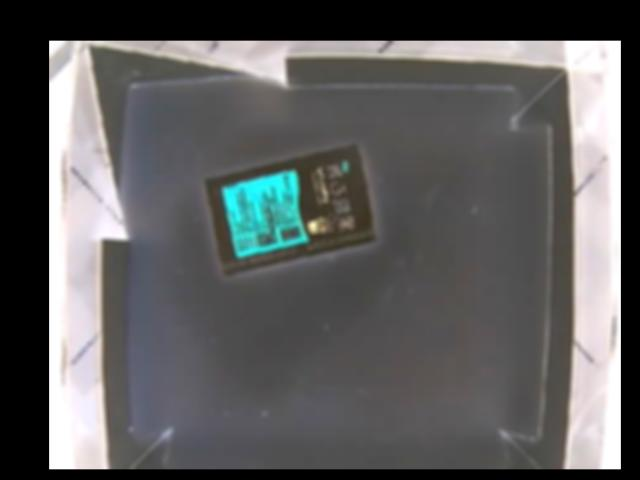Medicine: (201, 143, 375, 275)
